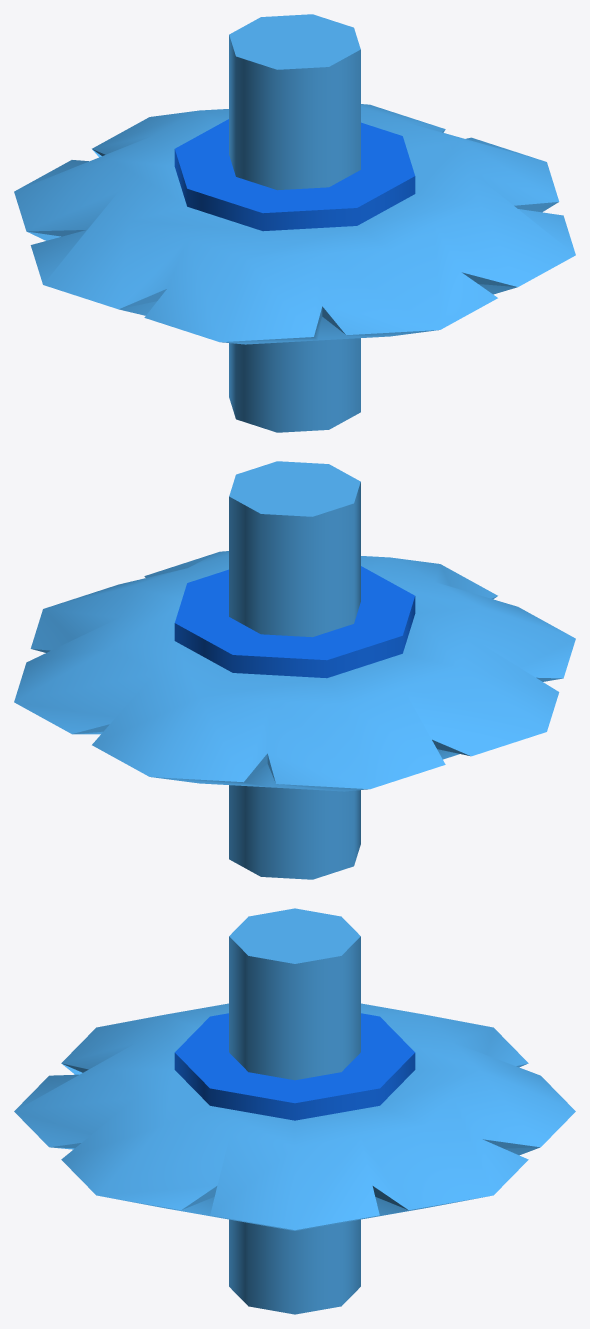
Rendered from Gimmick_04.fbx.
3 views of the same model, one above another, from view 1: azimuth 30°, elevation 25°; view 2: azimuth 150°, elevation 25°; view 3: azimuth 270°, elevation 25° (orthographic). The views are drawn at different scales.
Parts seen in each view (by area): view 1: Gimmick_04; view 2: Gimmick_04; view 3: Gimmick_04.
Boxes of the visible parts, x1,y1,x2,y2 form: Gimmick_04: (14,14,575,432); Gimmick_04: (14,461,575,879); Gimmick_04: (14,908,575,1314).
Size of the model in its own units: 6.94 by 4.78 by 6.94.
